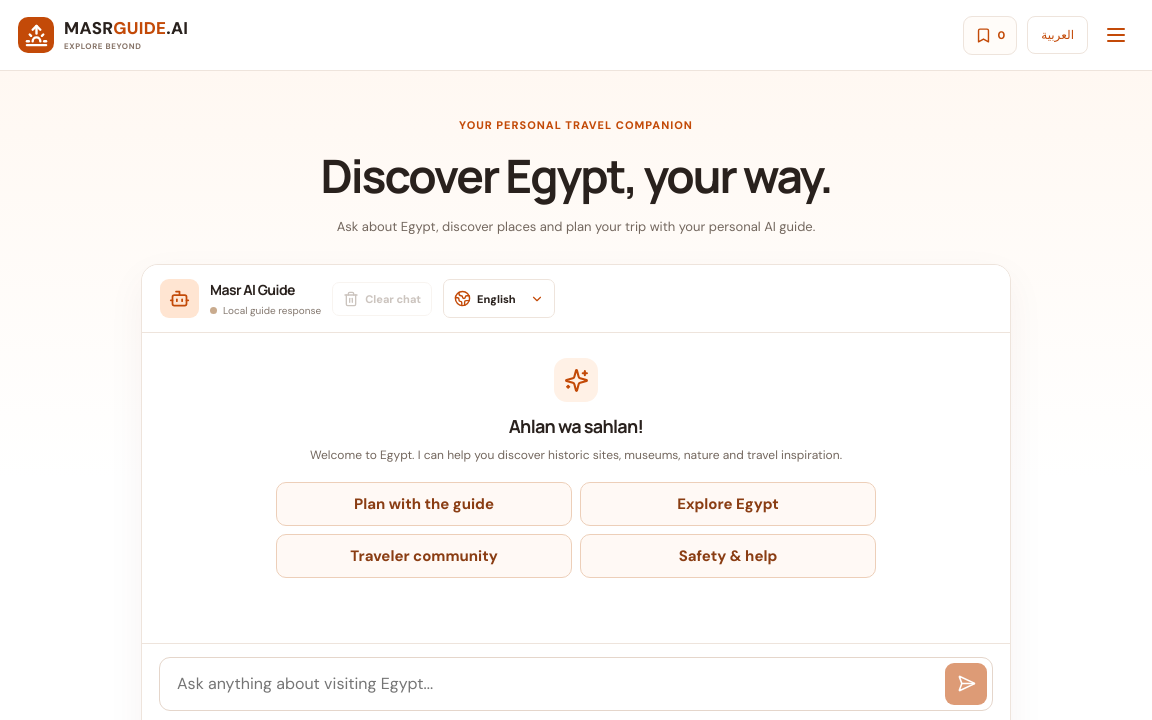
Scenario: GitHub release fixes › keeps offline chat notices visitor-facing in English and Arabic
Type "Hello" into the field named "Ask the tour guide".
click(560, 684); type("Hello")  # box [175,663,945,705]
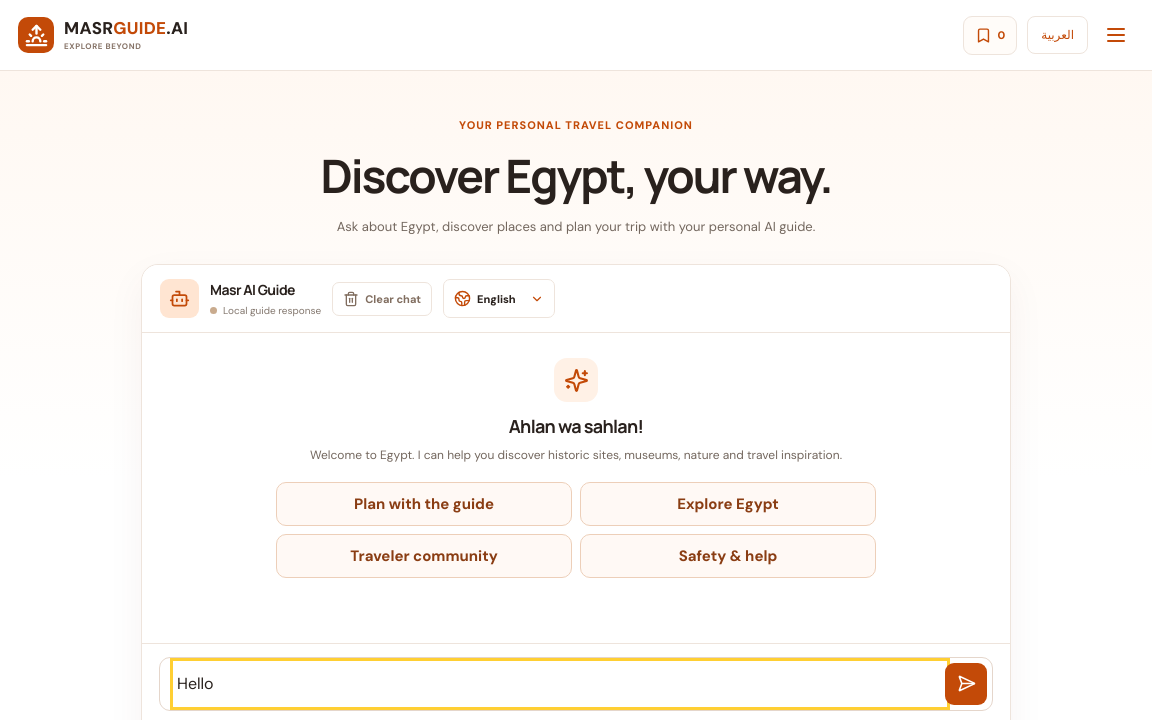
Click the button named "Send message".
click(966, 684)  # box [945,663,987,705]
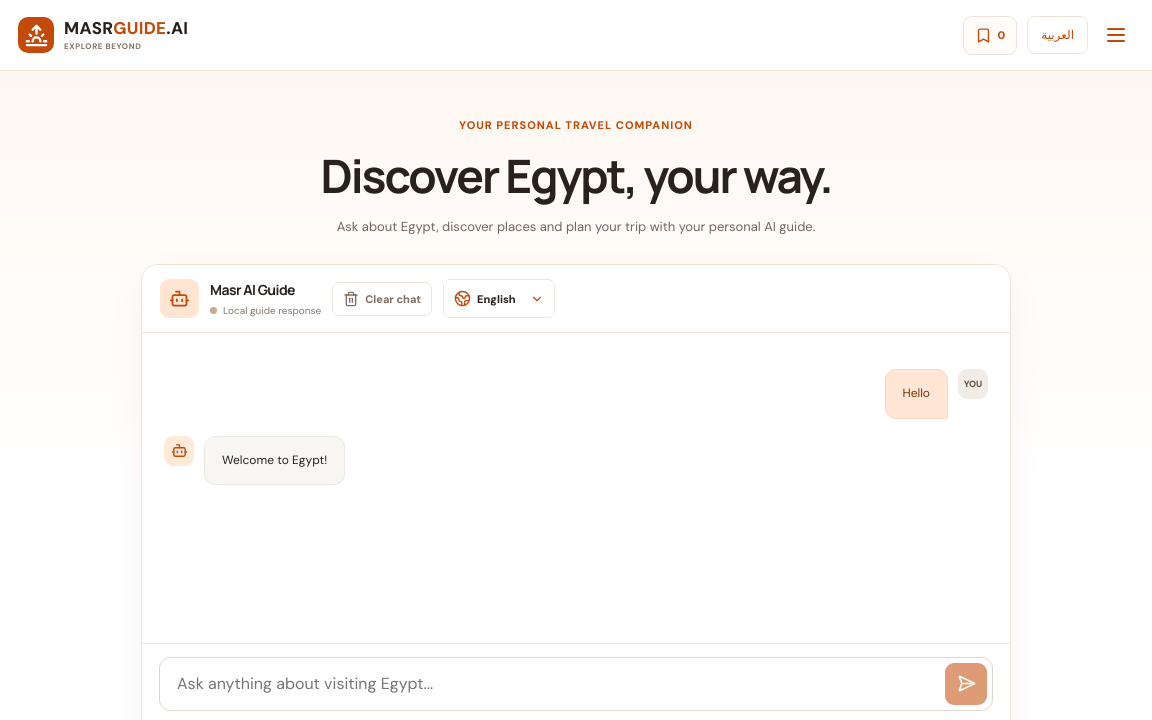
Expected: the text "Local guide response" is shown, [210,304,321,317]
Expected: the text "Welcome to Egypt!" is shown, [204,436,345,485]
